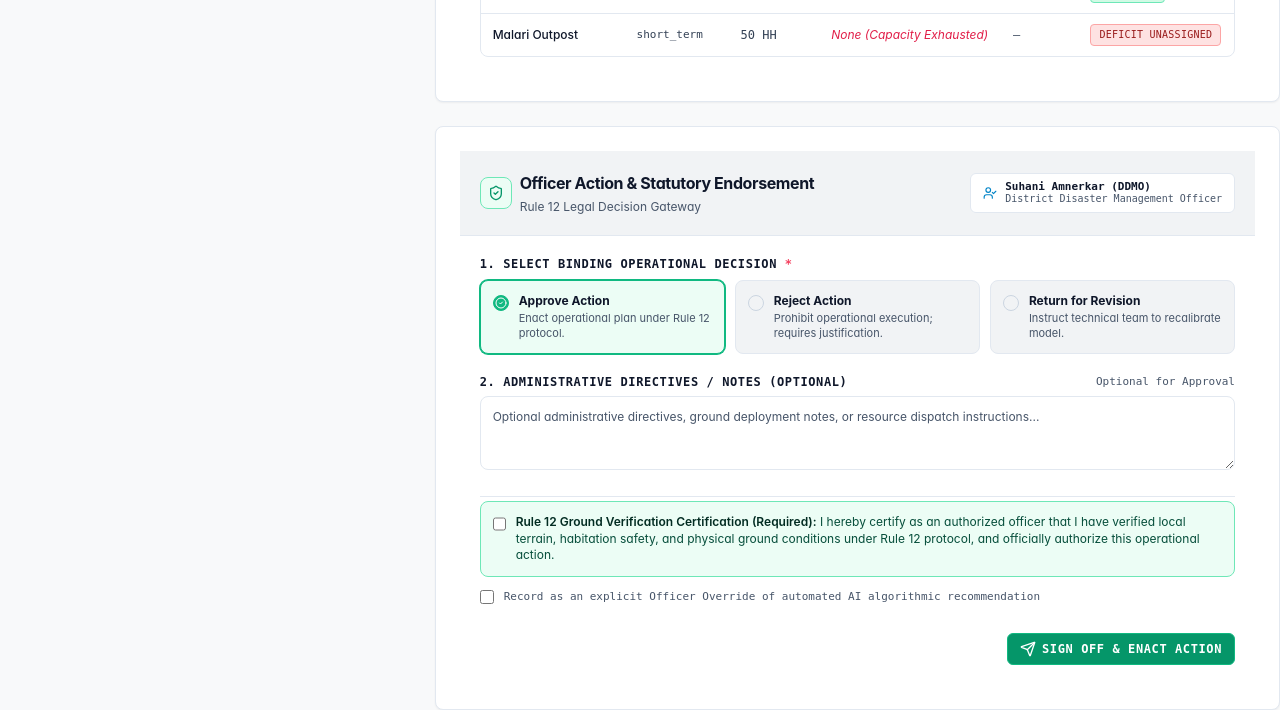
Test: Officer Review & Action Sign-Off UI Suite (Chunk M6-08) › 9. Reject Action: requires mandatory rationale and displays validation error when empty
The image size is (1280, 710).
(page scrolled)
Switch to Reject mode
Click the button "Reject Action": (857, 317) [735,280,980,354]
(page scrolled)
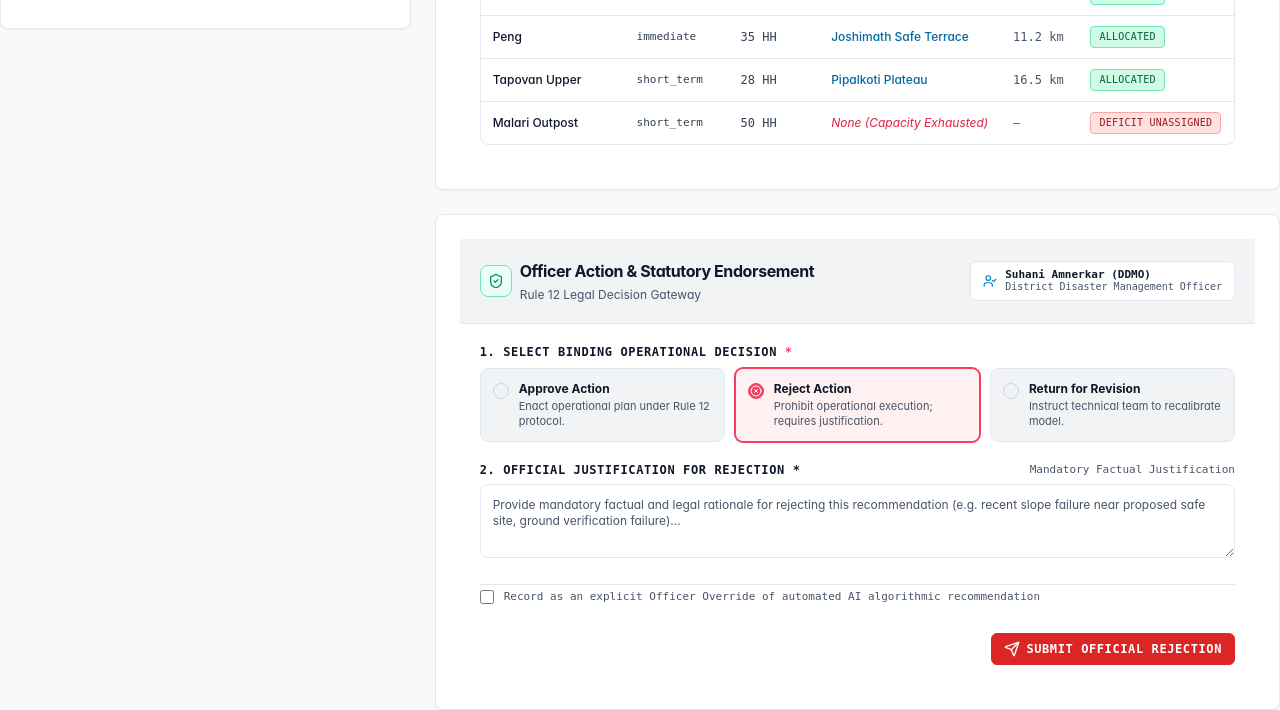
Submit without rationale
Click the button "Submit Official Rejection": (1113, 649) [991,633,1235,665]
(page scrolled)
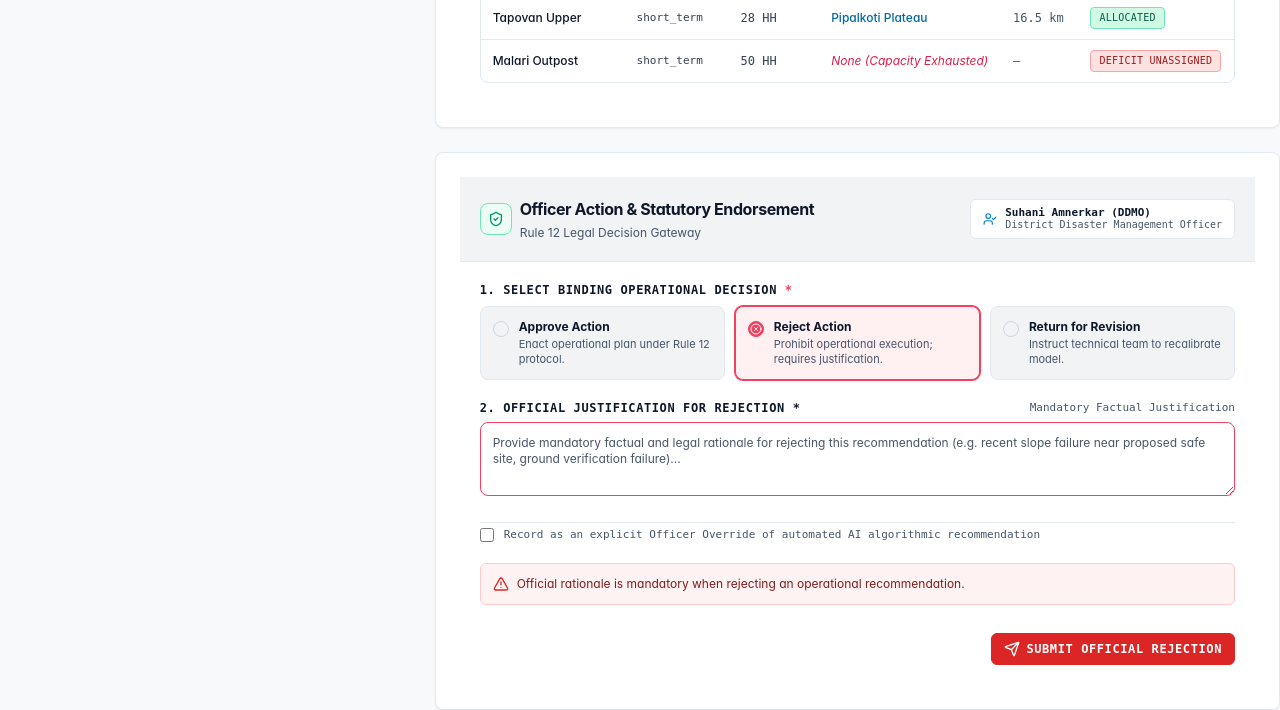
Check: the text "Official rationale is mandatory when rejecting an operational recommendation" is shown, box [517,576,965,591]
